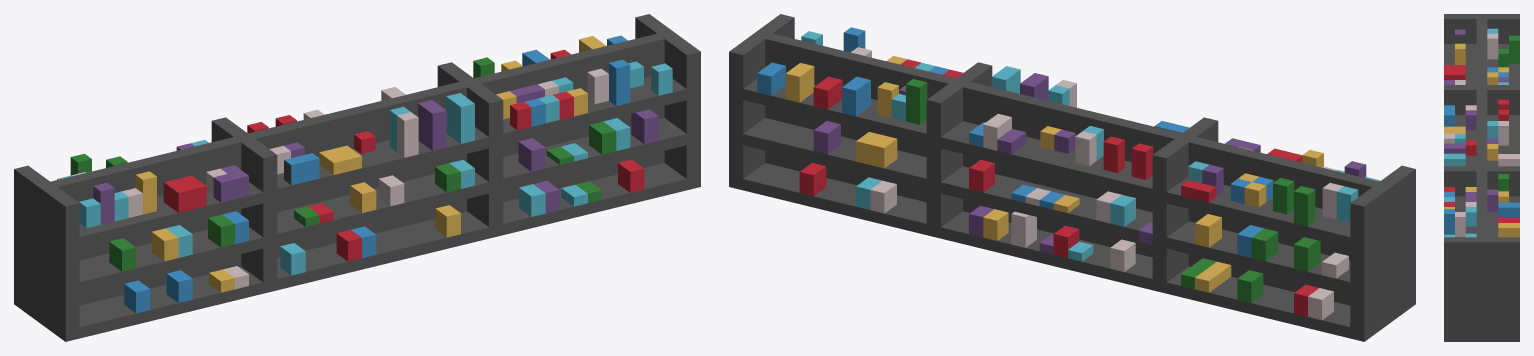
Rendered from 8-12_Shelves.fbx.
3 views of the same model, side by side, from view 1: azimuth 30°, elevation 25°; view 2: azimuth 150°, elevation 25°; view 3: azimuth 270°, elevation 25° (orthographic). The views are drawn at different scales.
Parts seen in each view (by area): view 1: pCube1; view 2: pCube1; view 3: pCube1.
Boxes of the visible parts, left/top/right/bottom form: pCube1: left=14, top=14, right=700, bottom=341; pCube1: left=729, top=14, right=1415, bottom=341; pCube1: left=1444, top=14, right=1519, bottom=341.
Size of the model in its own units: 13.33 by 2.79 by 1.87.
